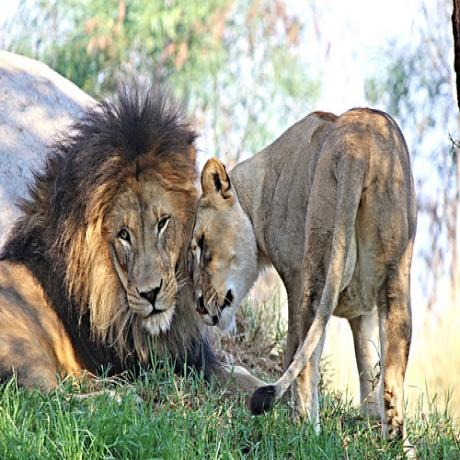Lion: (192, 103, 415, 451), (0, 91, 201, 400)
